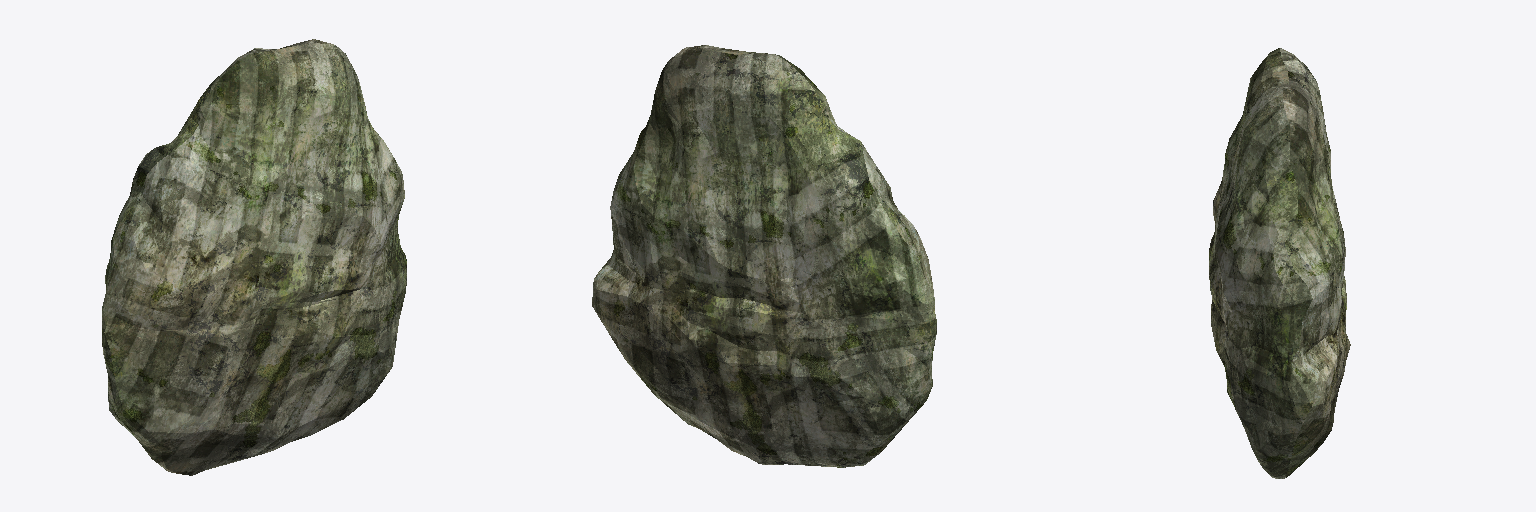
3 renders of one model, left to right at view 1: azimuth 30°, elevation 25°; view 2: azimuth 150°, elevation 25°; view 3: azimuth 270°, elevation 25°, orthographic.
Visible parts, largest first — view 1: remains01c_remains01cShape.001; view 2: remains01c_remains01cShape.001; view 3: remains01c_remains01cShape.001.
Boxes of the visible parts, x1,y1,x2,y2 form: remains01c_remains01cShape.001: [102, 39, 406, 475]; remains01c_remains01cShape.001: [592, 45, 936, 467]; remains01c_remains01cShape.001: [1209, 48, 1350, 478].
Size of the model in its own units: 5.14 by 6.23 by 1.97.
Materials: 1 (1 with a texture image).